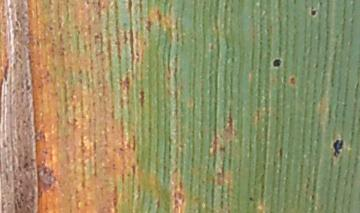tarspot: (117, 76, 132, 95), (331, 137, 344, 158), (137, 88, 146, 109), (65, 116, 79, 128), (153, 8, 164, 22), (144, 19, 154, 34), (270, 57, 282, 69), (121, 29, 129, 46), (24, 77, 31, 92), (288, 75, 297, 86), (217, 144, 227, 153), (309, 8, 317, 18), (246, 195, 255, 203), (22, 161, 29, 170), (76, 77, 83, 85), (118, 145, 125, 153), (47, 24, 53, 32), (96, 1, 101, 10), (18, 177, 24, 184)
